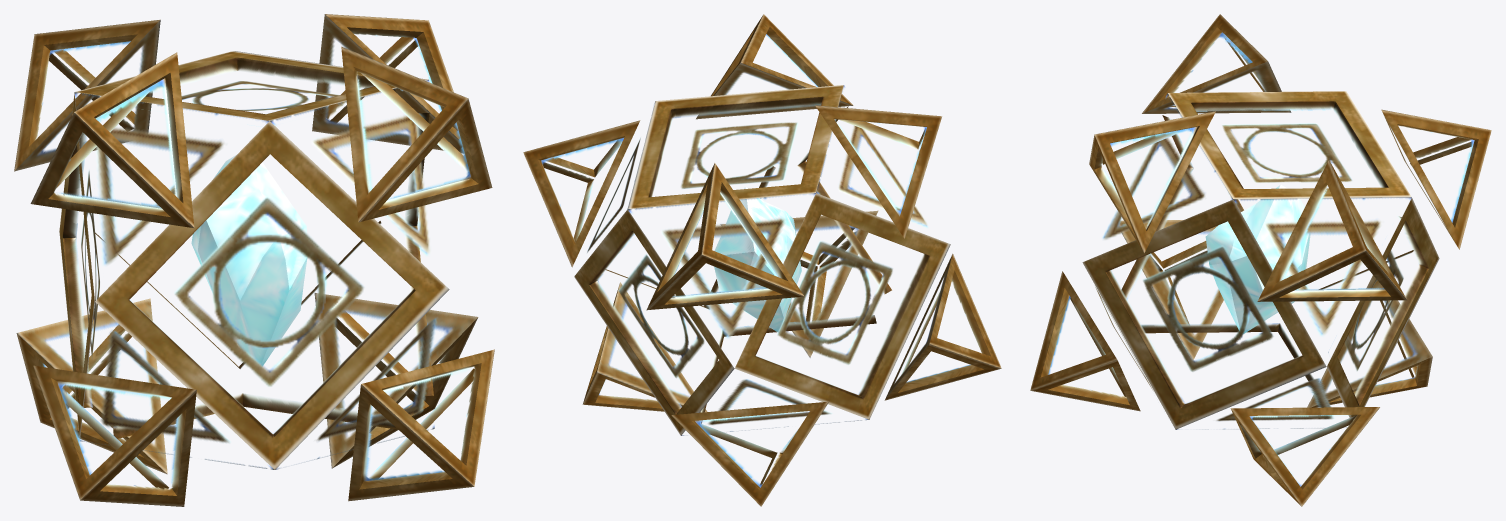
Rendered from Artefact.glb.
3 renders of one model, left to right at view 1: azimuth 30°, elevation 25°; view 2: azimuth 150°, elevation 25°; view 3: azimuth 270°, elevation 25°, orthographic. The views are drawn at different scales.
Visible parts, largest first — view 1: SM_Jedi_Holocron; view 2: SM_Jedi_Holocron; view 3: SM_Jedi_Holocron.
Part boxes in pixels (x1,y1,x2,y2): SM_Jedi_Holocron: [14, 14, 494, 506]; SM_Jedi_Holocron: [523, 14, 1001, 506]; SM_Jedi_Holocron: [1030, 14, 1491, 506].
Size of the model in its own units: 0.0994 by 0.0872 by 0.1061.
Materials: 2 (2 with a texture image).
